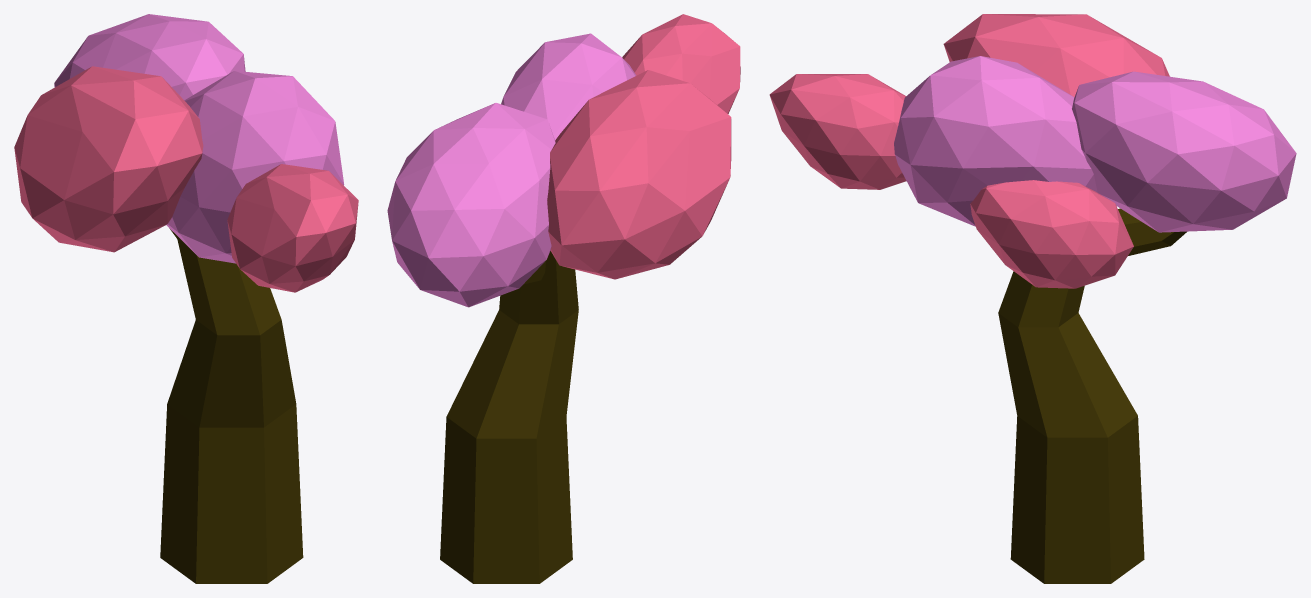
File: japtree.fbx
The picture shows the model from 3 angles, left to right: view 1: azimuth 30°, elevation 25°; view 2: azimuth 150°, elevation 25°; view 3: azimuth 270°, elevation 25°; orthographic projection. The views are drawn at different scales.
Visible parts, largest first — view 1: Icosphere.001, Circle, Icosphere; view 2: Icosphere.001, Circle, Icosphere; view 3: Icosphere, Icosphere.001, Circle.
Boxes of the visible parts, <box> form: Icosphere.001: <box>14,66,358,292</box>; Circle: <box>160,228,303,583</box>; Icosphere: <box>54,14,344,263</box>; Icosphere.001: <box>547,14,740,279</box>; Circle: <box>440,251,578,583</box>; Icosphere: <box>387,33,636,307</box>; Icosphere: <box>894,56,1296,232</box>; Icosphere.001: <box>769,14,1169,288</box>; Circle: <box>998,208,1186,583</box>.
Bounding box in the file's own units: 134 × 243 × 236.
